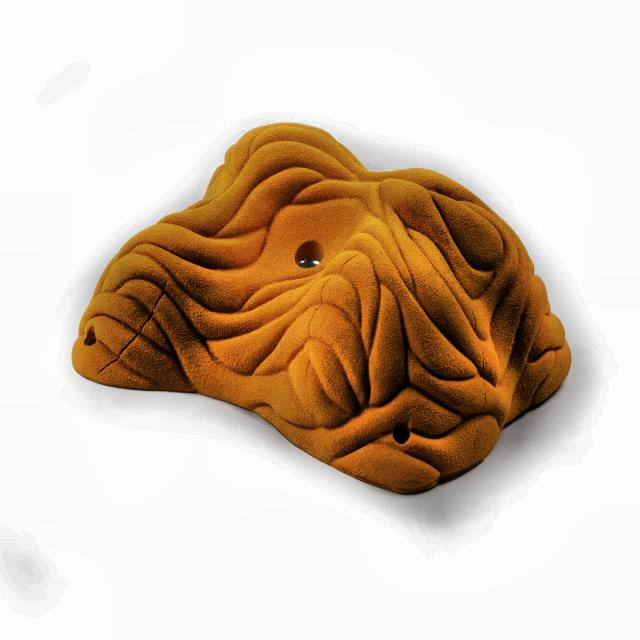Hold: (76, 120, 572, 494)
